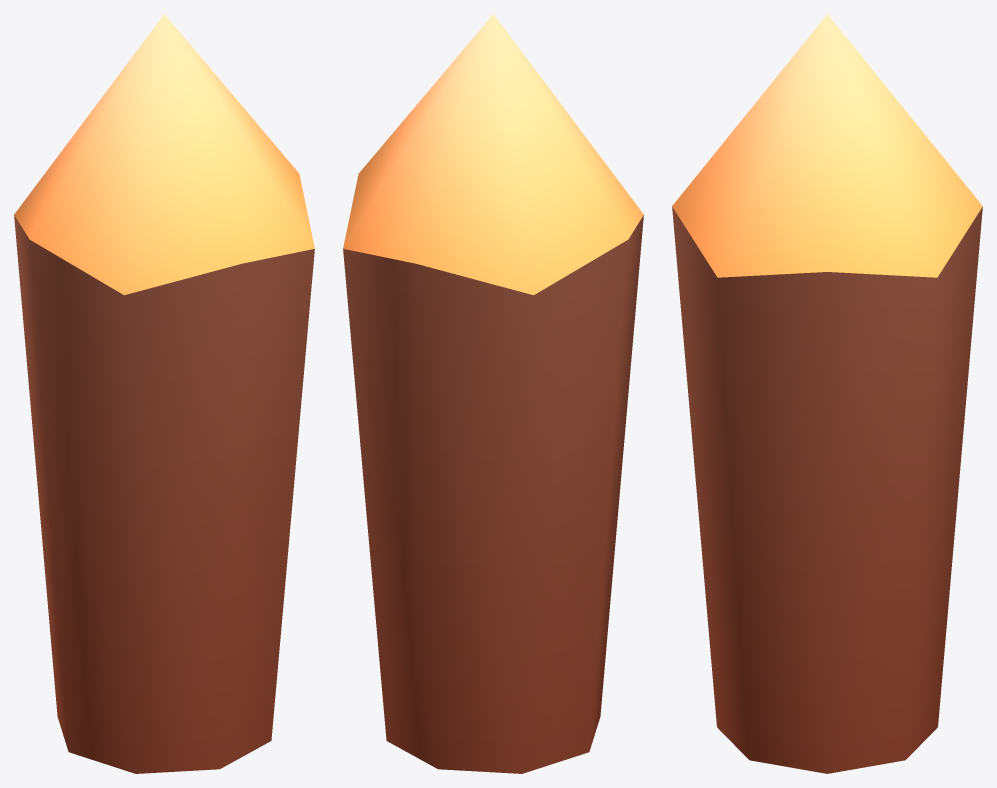
The model's file is stake_001.glb.
The picture shows the model from 3 angles, left to right: view 1: azimuth 30°, elevation 25°; view 2: azimuth 150°, elevation 25°; view 3: azimuth 270°, elevation 25°; orthographic projection.
Parts seen in each view (by area): view 1: stake_001; view 2: stake_001; view 3: stake_001.
Part boxes in pixels (box(x1,y1,x2,y2)): stake_001: box(14, 14, 314, 773); stake_001: box(343, 14, 643, 773); stake_001: box(672, 14, 982, 773).
Bounding box in the file's own units: 0.4027 × 1.02 × 0.4027.
1 material, 1 textured.
